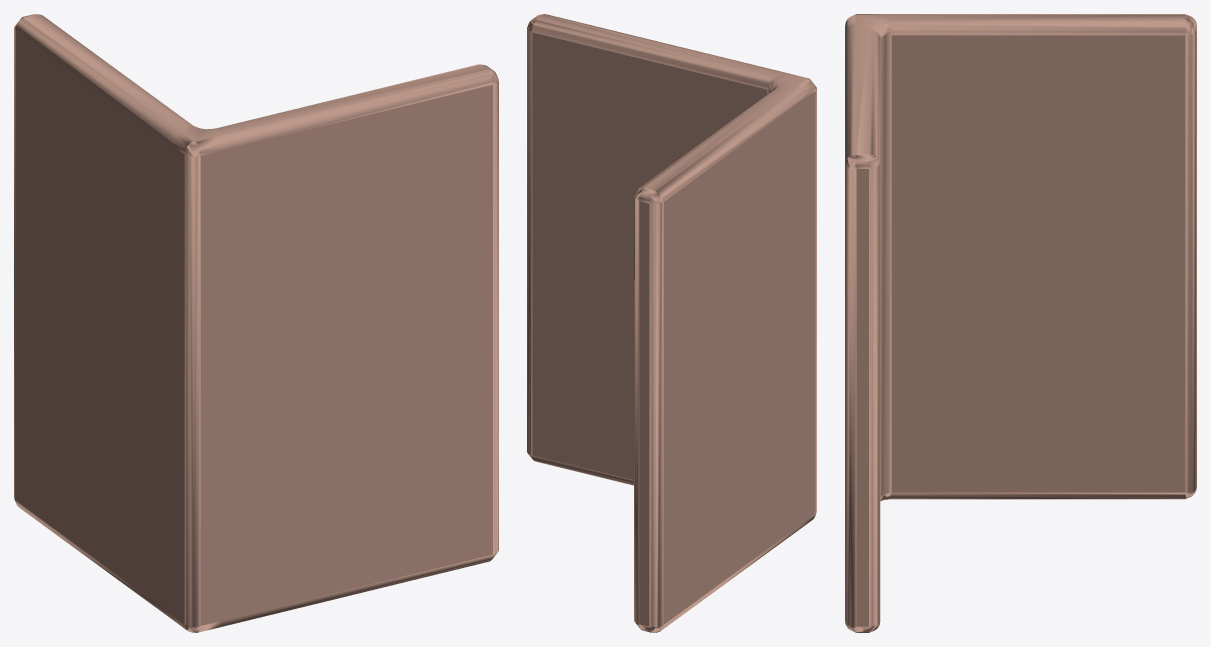
Rendered from OuterCorner.glb.
3 renders of one model, left to right at view 1: azimuth 30°, elevation 25°; view 2: azimuth 150°, elevation 25°; view 3: azimuth 270°, elevation 25°, orthographic. The views are drawn at different scales.
Visible parts, largest first — view 1: PBK_corner_a.006; view 2: PBK_corner_a.006; view 3: PBK_corner_a.006.
Part boxes in pixels (box(x1,y1,x2,y2)): PBK_corner_a.006: box(14, 14, 498, 632); PBK_corner_a.006: box(527, 14, 816, 632); PBK_corner_a.006: box(845, 14, 1196, 632).
Size of the model in its own units: 2 by 3 by 2.
